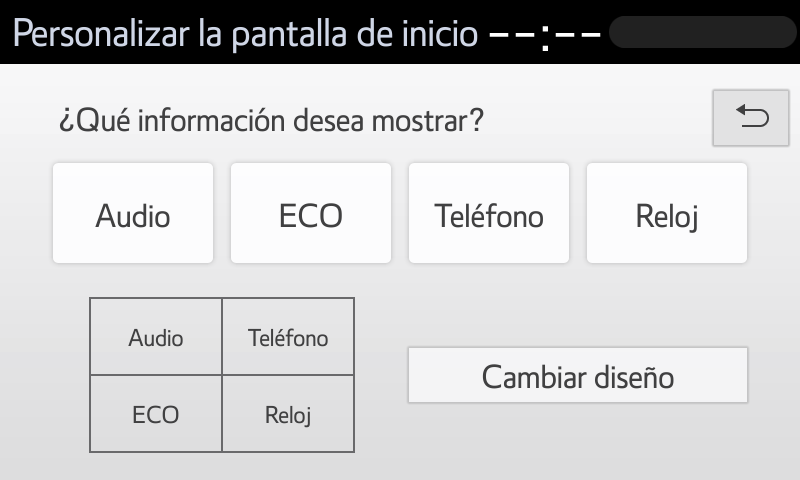touchPart: (406, 343, 755, 406), (584, 160, 755, 273), (46, 161, 216, 271), (405, 160, 571, 269), (229, 163, 394, 272), (703, 89, 795, 150)
untouchPart: (51, 94, 489, 139), (7, 12, 478, 53), (486, 13, 795, 55)
